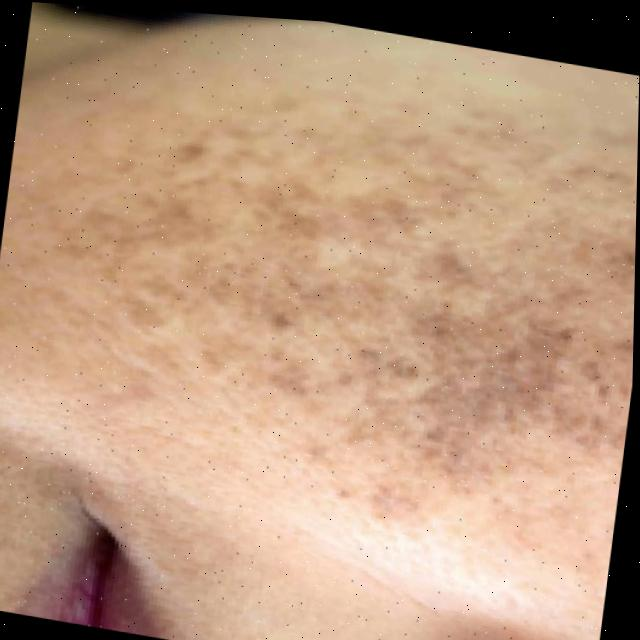Melasma: (152, 119, 638, 500)
